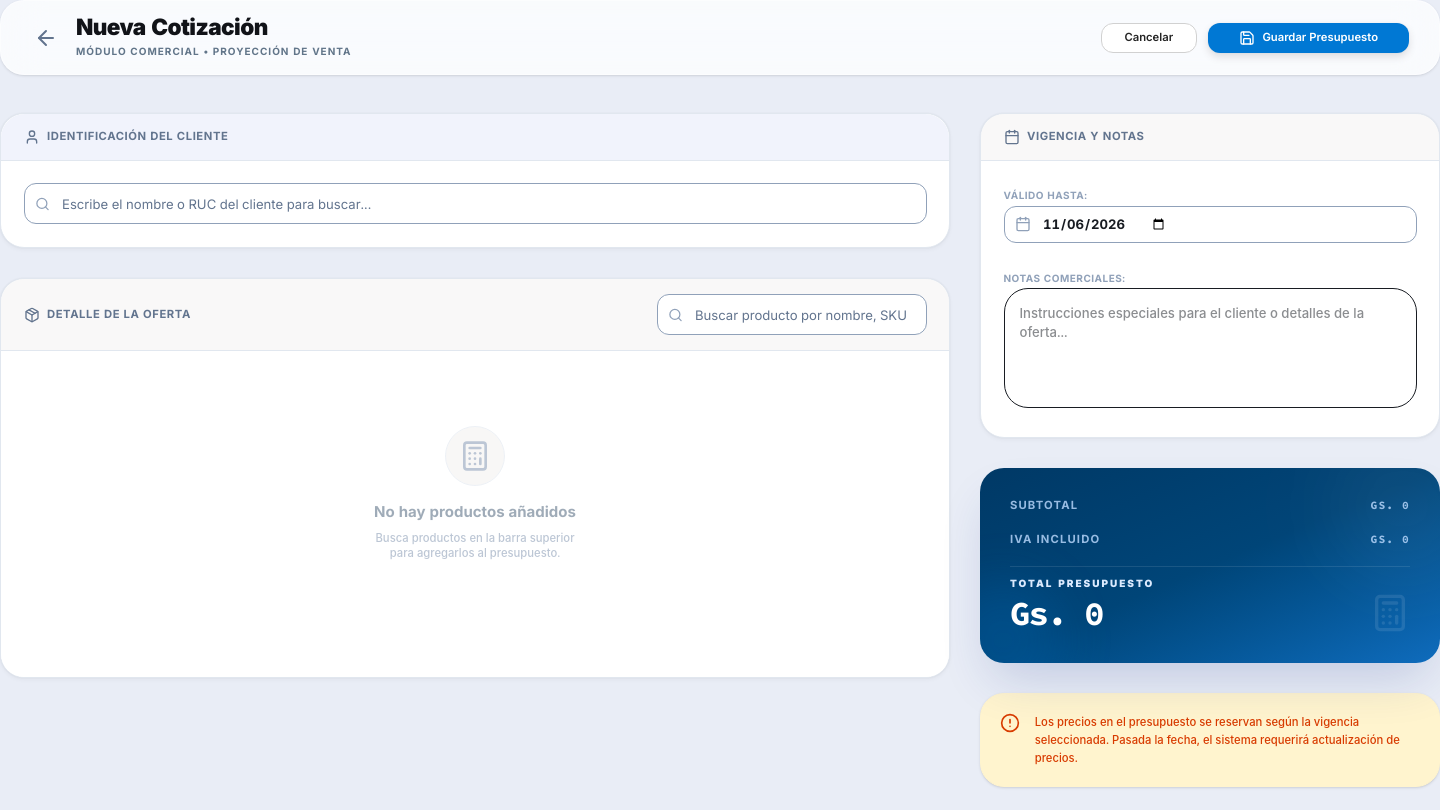
it: BudgetCreate (nuevo presupuesto) › selecciona un cliente crudo del backend sin crashear (regresión selectedClient.name)
fireEvent (no userEvent: con fake timers se cuelga) + debounce.
Type "Erik" into the field with placeholder "Escribe el nombre o RUC del cliente para buscar...". click: (475, 204)
box: [24,183,926,224]
Wait 310 ms
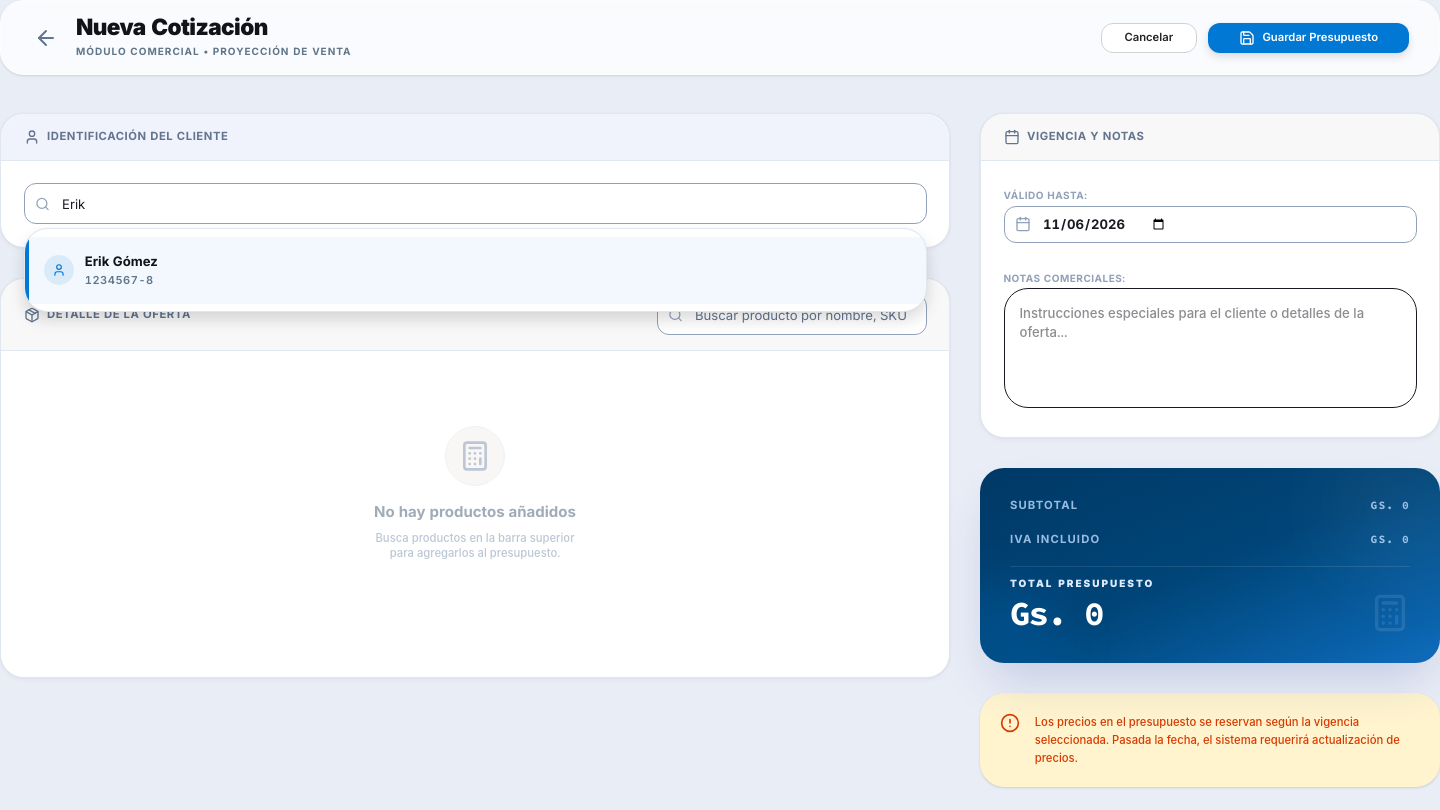
Check: the text "Erik Gómez" is shown
Click the text "Erik Gómez". click: (121, 261)
box: [85,253,158,269]
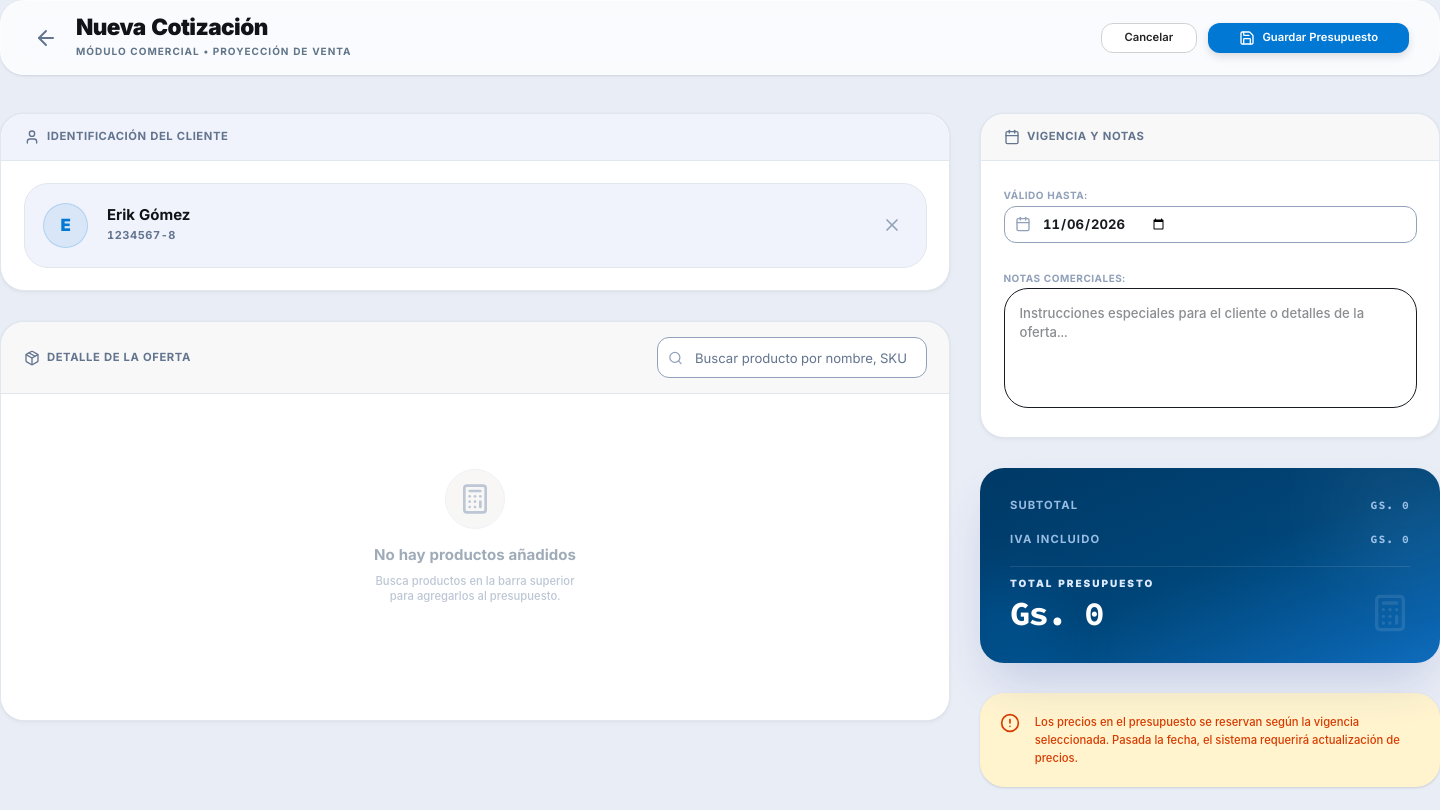
Check: the text "Erik Gómez" is shown, box [107,207,190,222]
Check: the text "1234567-8" is shown, box [107,228,176,242]
Check: the text "E" is shown, box [43,203,88,248]
